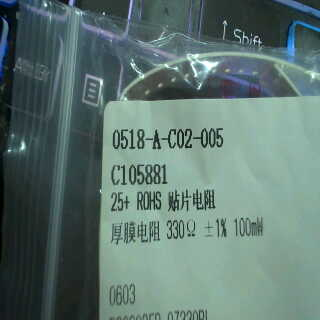330R: (162, 217, 199, 244)
